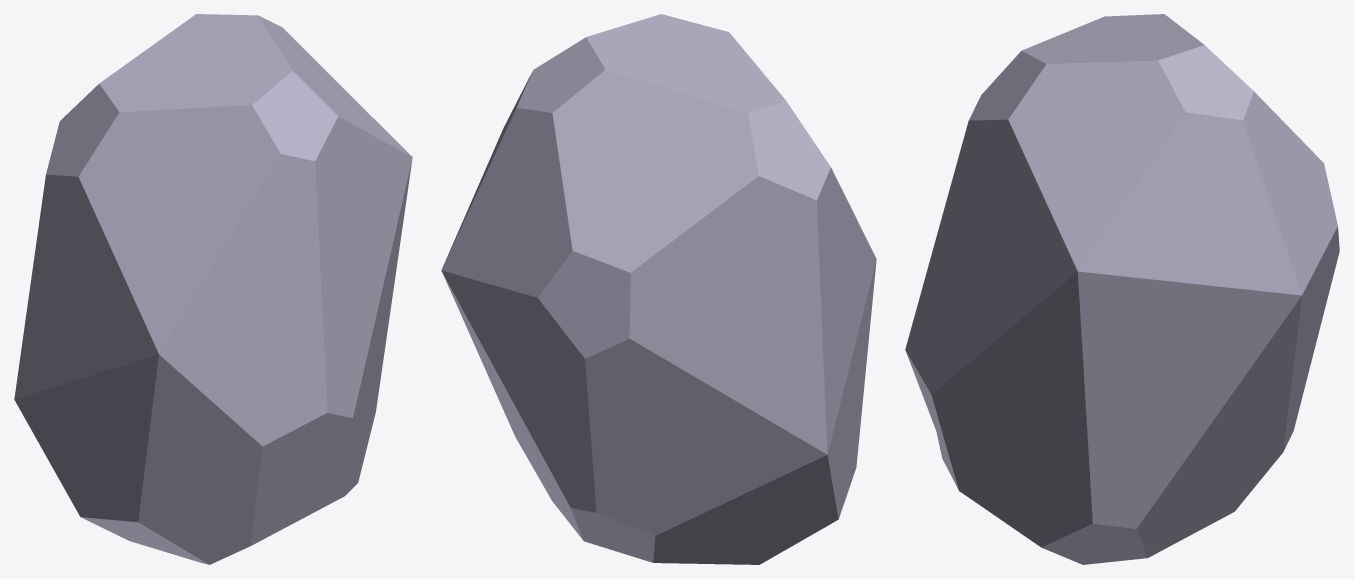
The model's file is Batulonjong1.fbx.
The picture shows the model from 3 angles, left to right: view 1: azimuth 30°, elevation 25°; view 2: azimuth 150°, elevation 25°; view 3: azimuth 270°, elevation 25°; orthographic projection. The views are drawn at different scales.
Parts seen in each view (by area): view 1: rock_2b.001; view 2: rock_2b.001; view 3: rock_2b.001.
Boxes of the visible parts, box(x1,y1,x2,y2) form: rock_2b.001: box(14, 14, 412, 564); rock_2b.001: box(441, 14, 876, 564); rock_2b.001: box(905, 14, 1339, 564).
Size of the model in its own units: 321 by 422 by 324.
